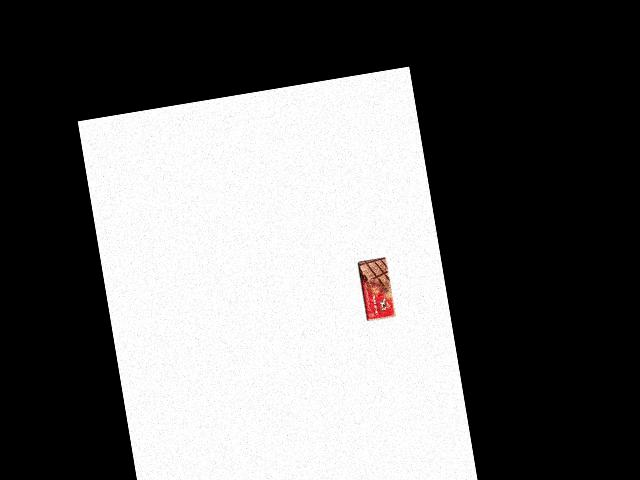chocolate: (356, 255, 397, 322)
